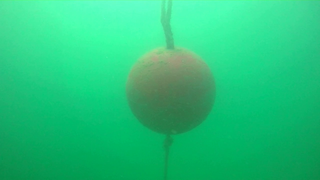buoy: (125, 46, 216, 136)
